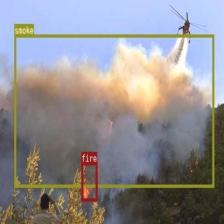fire: (81, 162, 97, 201)
smoke: (14, 34, 214, 187)
